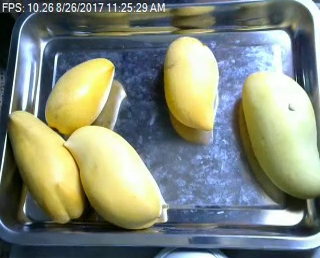Mango: (240, 73, 320, 197), (65, 126, 163, 226), (6, 106, 80, 222), (42, 57, 115, 131), (165, 34, 218, 132)
